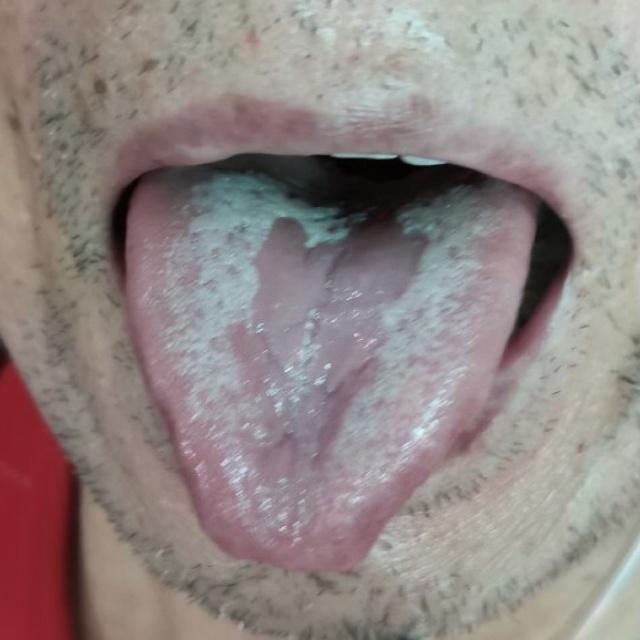baitaishe: (126, 165, 535, 575)
botaishe: (219, 212, 436, 460)
shenquao: (241, 166, 480, 222)
